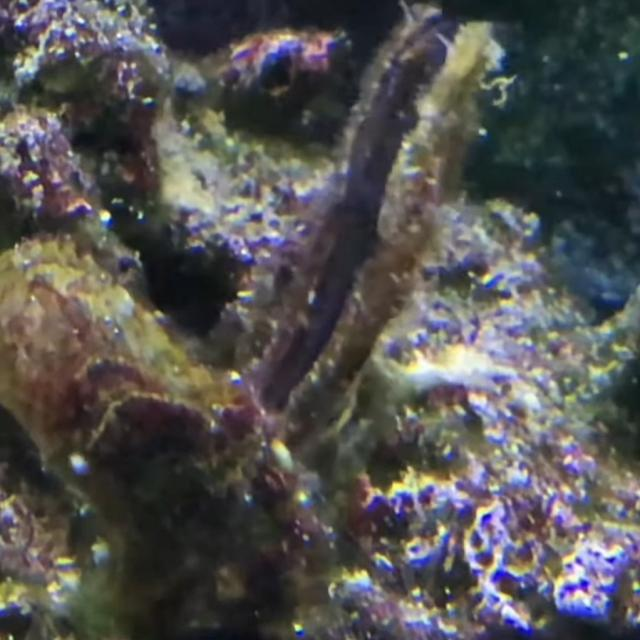Oyster-Indeterminate: (0, 237, 304, 603)
Oyster-Open: (200, 6, 504, 466)
